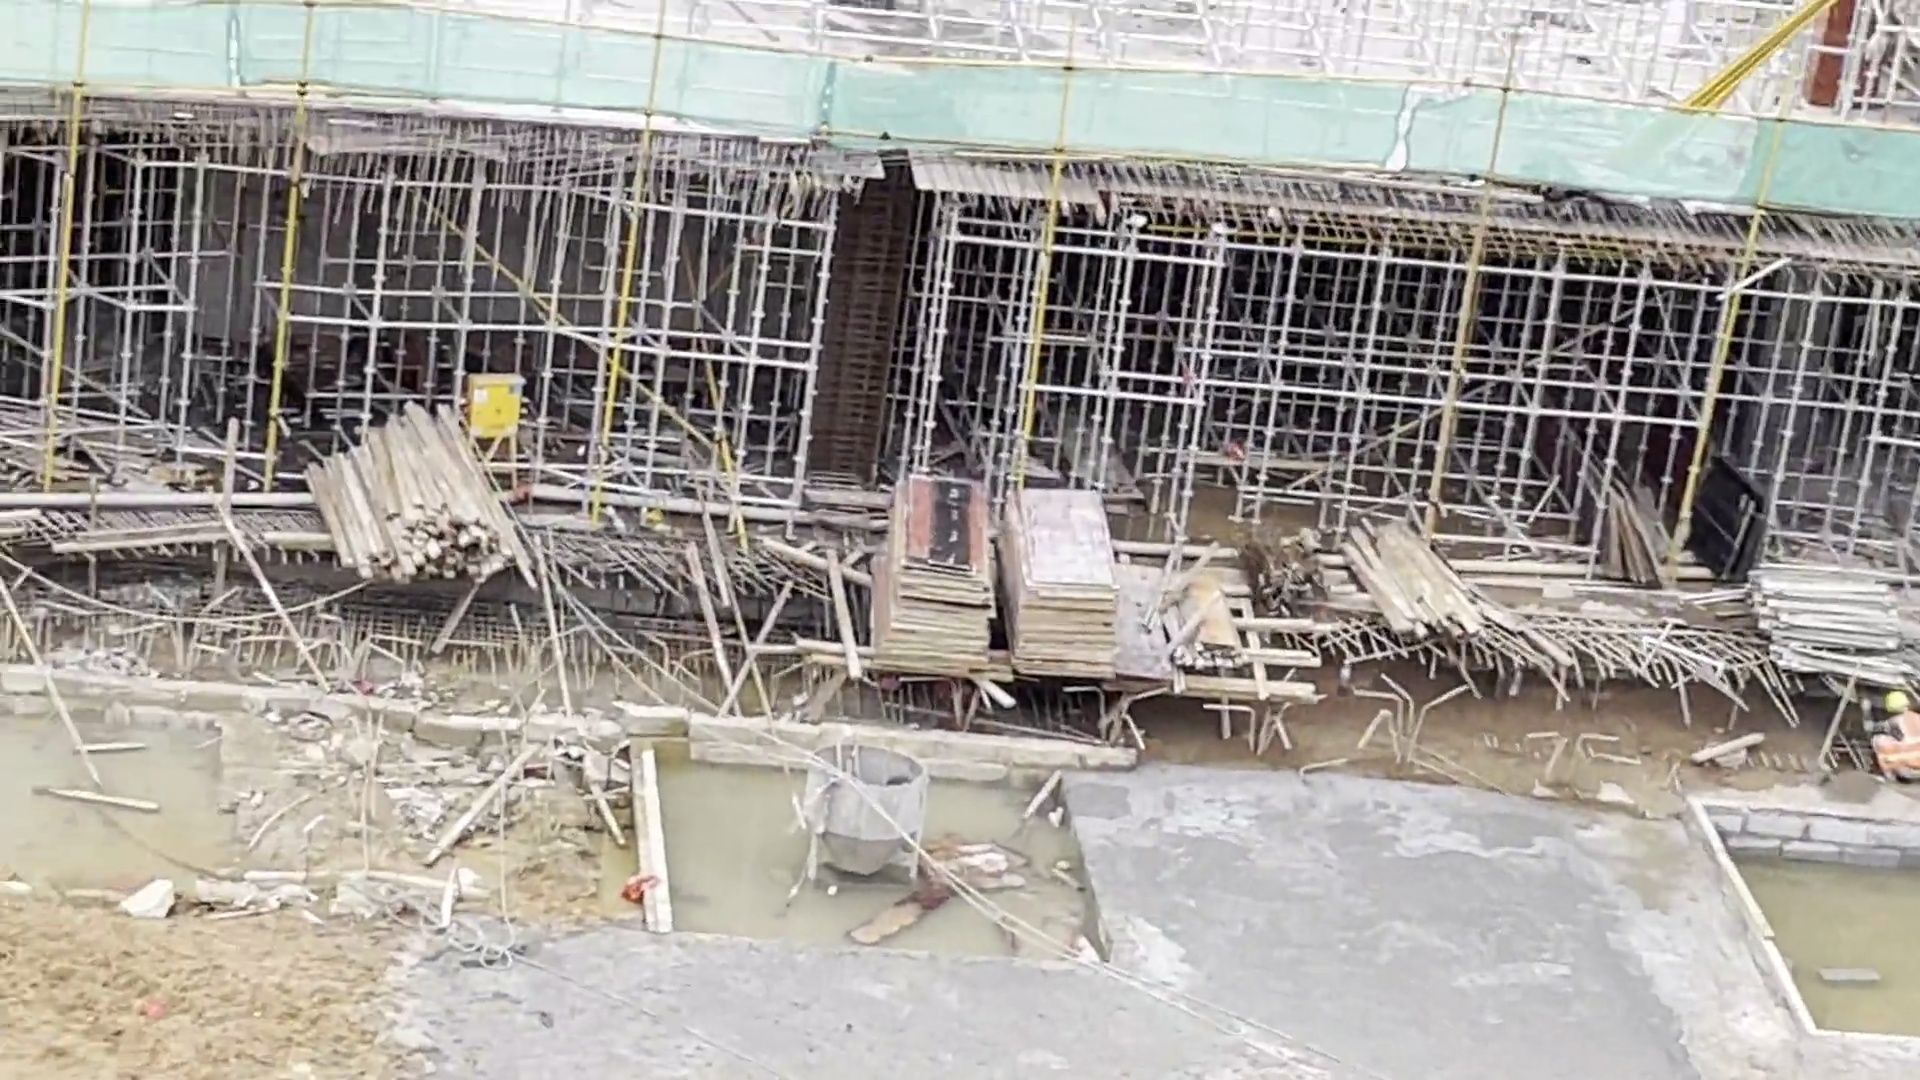board: (886, 479, 1124, 680)
ebox: (466, 367, 527, 436)
helmet: (1885, 691, 1913, 715)
person: (1870, 681, 1920, 790)
scaffold: (1749, 539, 1910, 680)
vest: (1879, 718, 1920, 777)
wood: (318, 404, 542, 594), (1335, 524, 1488, 653)
